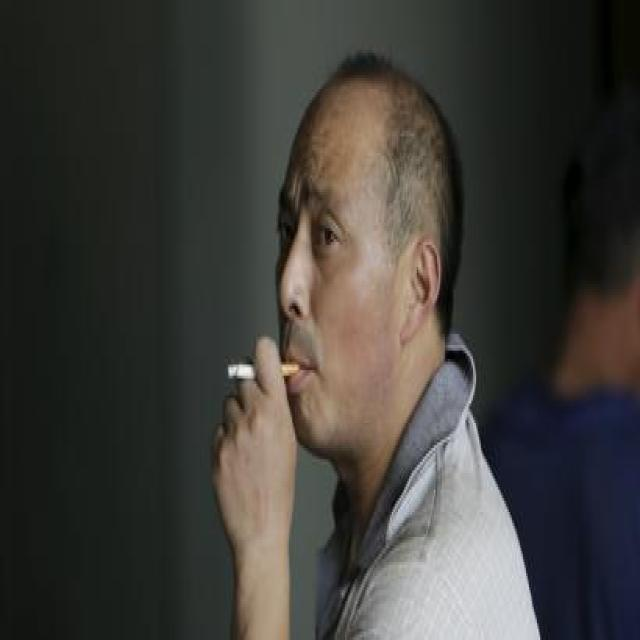Cigarette: (216, 363, 304, 376)
